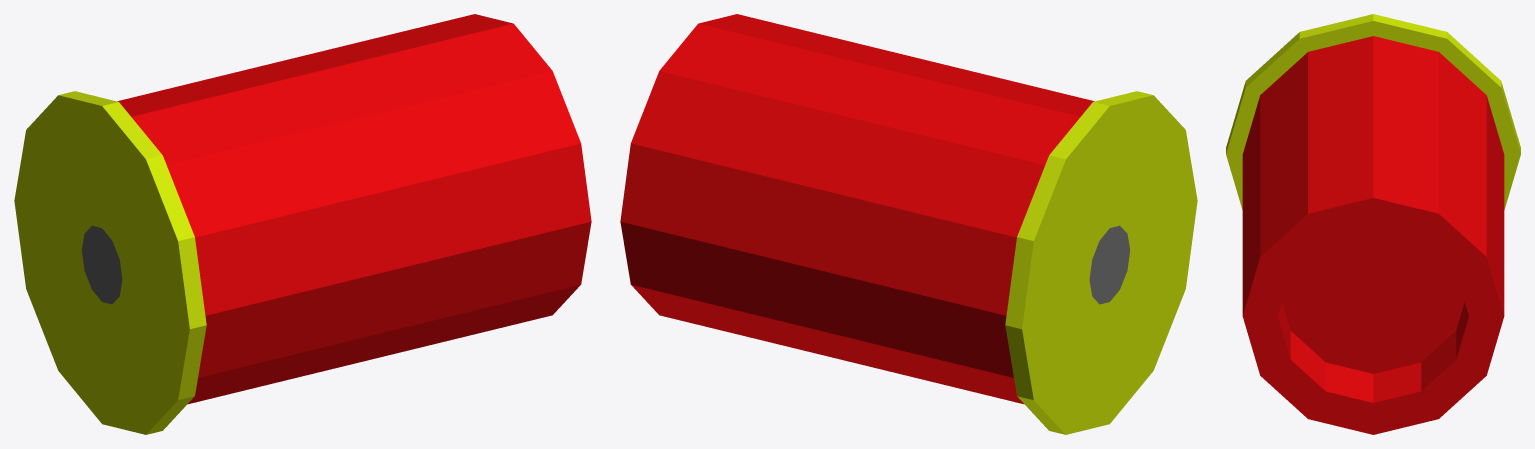
The model's file is ShotgunBullet.fbx.
The picture shows the model from 3 angles, left to right: view 1: azimuth 30°, elevation 25°; view 2: azimuth 150°, elevation 25°; view 3: azimuth 270°, elevation 25°; orthographic projection. The views are drawn at different scales.
Visible parts, largest first — view 1: Bullet; view 2: Bullet; view 3: Bullet.
Part boxes in pixels (x1,y1,x2,y2): Bullet: (14,14,591,434); Bullet: (620,14,1197,434); Bullet: (1226,14,1520,434).
Size of the model in its own units: 234 by 173 by 173.
